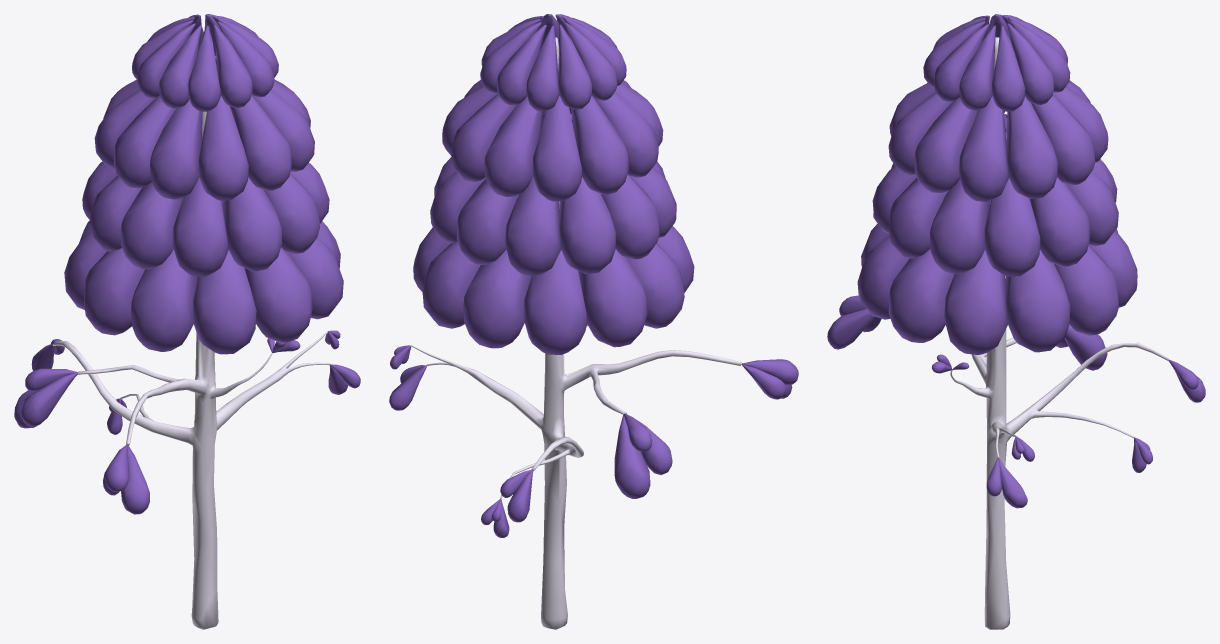
File: Eggplant_Baum_1_V02.FBX
3 renders of one model, left to right at view 1: azimuth 30°, elevation 25°; view 2: azimuth 150°, elevation 25°; view 3: azimuth 270°, elevation 25°, orthographic.
Visible parts, largest first — view 1: Baumstamm, Box082, Box083, Box084, Box093, Box094, Box103, Box104, Box081, Box092, Box105, Box113 (+20 smaller); view 2: Baumstamm, Box090, Box089, Box091, Box101, Box100, Box110, Box112, Box111, Box099, Box088, Box102 (+22 smaller); view 3: Baumstamm, Box086, Box087, Box085, Box097, Box096, Box108, Box107, Box088, Box106, Box098, Box109 (+17 smaller).
Boxes of the visible parts, x1,y1,x2,y2 form: Baumstamm: [53, 111, 330, 629]; Box082: [131, 249, 197, 351]; Box083: [193, 250, 256, 354]; Box084: [244, 247, 312, 342]; Box093: [173, 178, 228, 276]; Box094: [222, 177, 282, 271]; Box103: [150, 99, 202, 199]; Box104: [198, 96, 248, 200]; Box081: [84, 248, 145, 335]; Box092: [120, 182, 183, 269]; Box105: [230, 95, 291, 190]; Box113: [114, 96, 175, 188]; Baumstamm: [411, 37, 742, 629]; Box090: [524, 201, 587, 354]; Box089: [463, 249, 531, 348]; Box091: [578, 249, 647, 347]; Box101: [559, 177, 616, 273]; Box100: [505, 176, 561, 275]; Box110: [484, 96, 542, 196]; Box112: [571, 96, 629, 194]; Box111: [533, 96, 582, 201]; Box099: [456, 179, 518, 264]; Box088: [422, 241, 480, 328]; Box102: [601, 175, 659, 259]; Baumstamm: [950, 37, 1168, 629]; Box086: [944, 201, 1007, 354]; Box087: [1005, 250, 1070, 352]; Box085: [888, 249, 954, 342]; Box097: [984, 132, 1040, 276]; Box096: [929, 178, 989, 273]; Box108: [1006, 96, 1057, 198]; Box107: [959, 96, 1009, 201]; Box088: [1054, 244, 1118, 335]; Box106: [914, 97, 978, 192]; Box098: [1029, 177, 1090, 266]; Box109: [1031, 95, 1095, 185].
Size of the model in its own units: 151 by 152 by 270.
